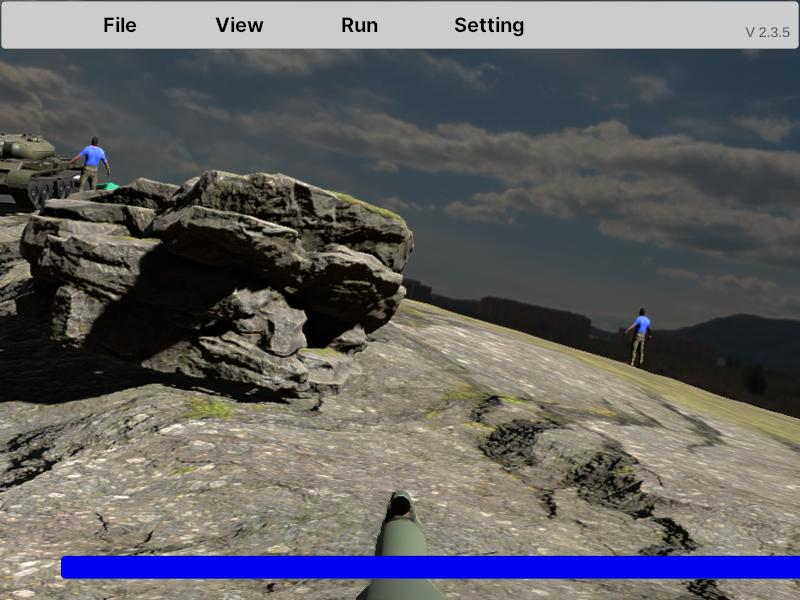Human: (69, 135, 111, 206), (625, 306, 653, 371)
Tank: (0, 128, 106, 214)
